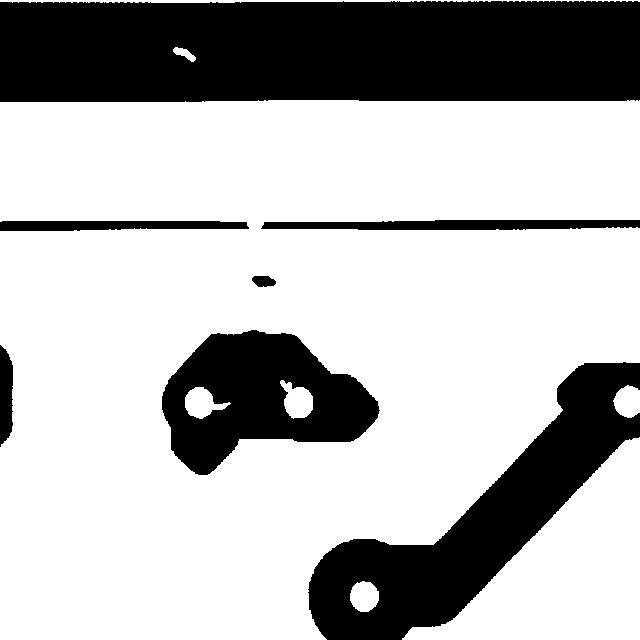copper: (242, 266, 285, 296)
mousebite: (200, 392, 240, 419), (270, 370, 302, 403)
open: (237, 211, 273, 240)
pin-hole: (163, 37, 205, 71)
